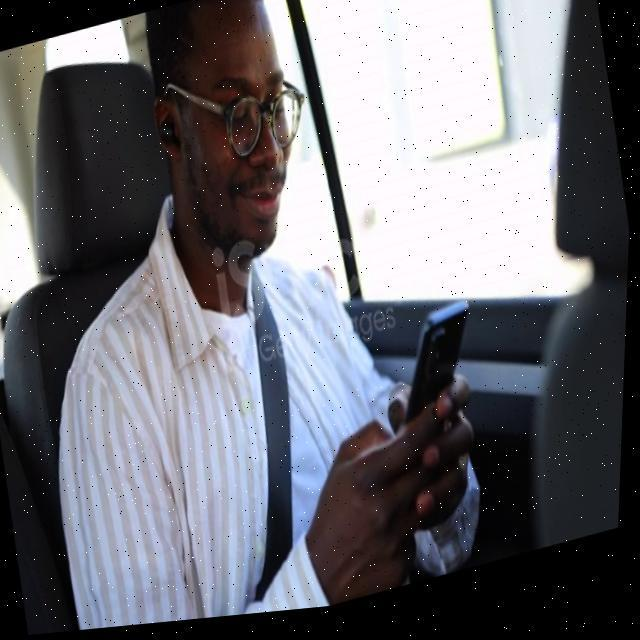PhoneCall: (384, 306, 490, 432)
